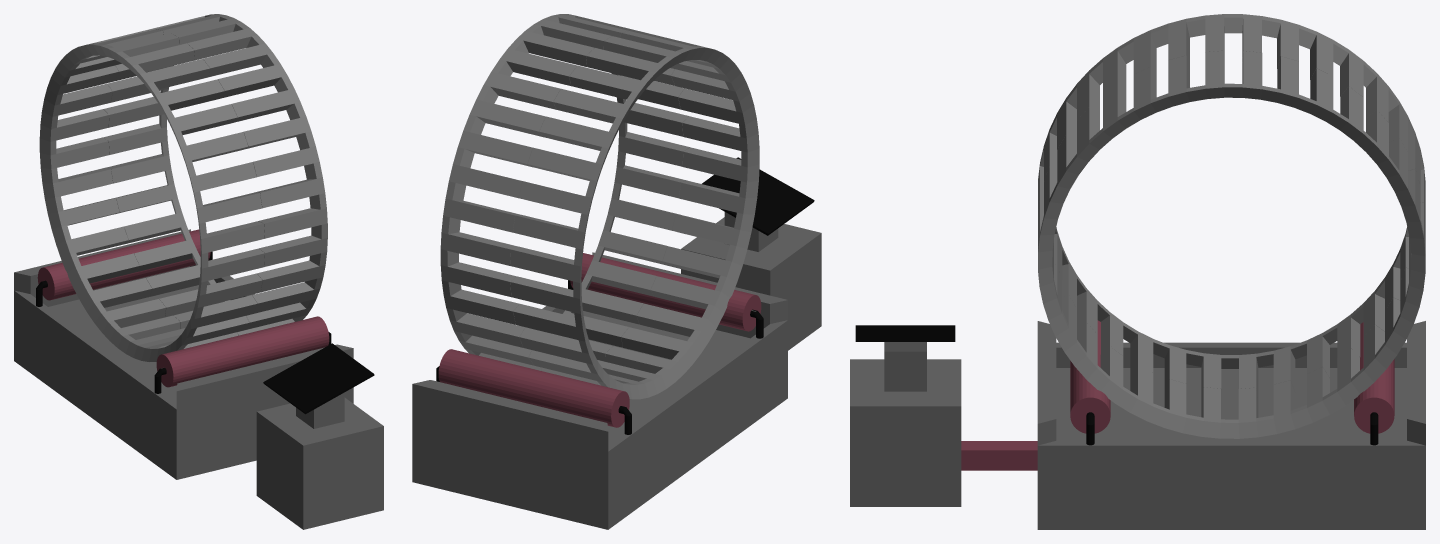
The model's file is Hamsterrad.fbx.
3 renders of one model, left to right at view 1: azimuth 30°, elevation 25°; view 2: azimuth 150°, elevation 25°; view 3: azimuth 270°, elevation 25°, orthographic. The views are drawn at different scales.
Visible parts, largest first — view 1: Wheel, Bottom, Controlpanel; view 2: Wheel, Bottom, Controlpanel; view 3: Wheel, Bottom, Controlpanel.
Part boxes in pixels (x1,y1,x2,y2): Wheel: (39,14,327,361); Bottom: (14,229,353,479); Controlpanel: (256,343,383,529); Wheel: (440,14,759,399); Bottom: (412,252,787,529); Controlpanel: (681,157,821,350); Wheel: (1038,14,1425,438); Bottom: (1037,320,1425,529); Controlpanel: (850,325,1037,506).
Size of the model in its own units: 126 by 246 by 297.
